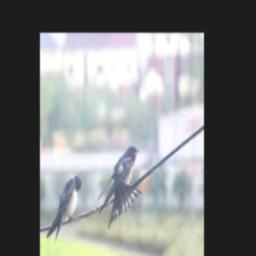Swallow: (98, 145, 142, 230), (46, 175, 81, 244)
